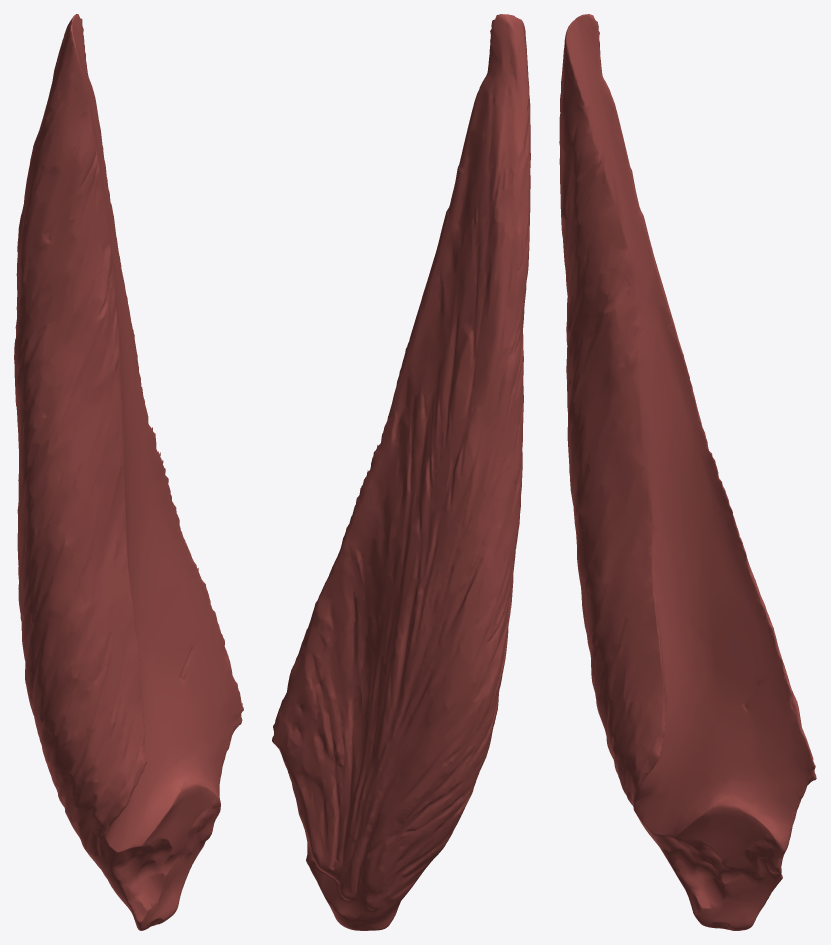
The model's file is FMA37696.glb.
3 views of the same model, side by side, from view 1: azimuth 30°, elevation 25°; view 2: azimuth 150°, elevation 25°; view 3: azimuth 330°, elevation 25° (orthographic). The views are drawn at different scales.
Visible parts, largest first — view 1: FMA37696; view 2: FMA37696; view 3: FMA37696.
Boxes of the visible parts, <box> form: FMA37696: <box>14,14,243,930</box>; FMA37696: <box>272,14,530,930</box>; FMA37696: <box>559,14,816,930</box>.
Size of the model in its own units: 0.0601 by 0.2267 by 0.0259.
